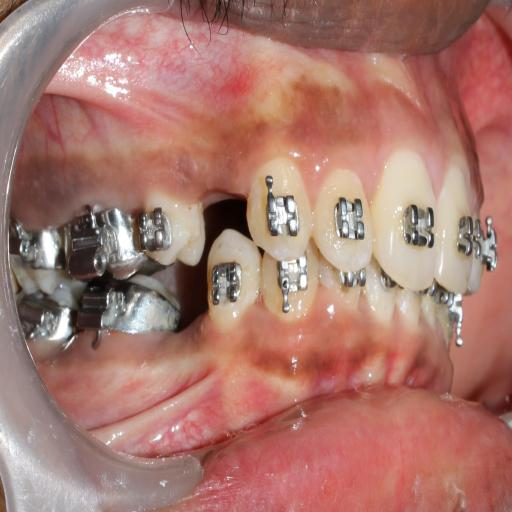correct_brace: (136, 182, 209, 271), (396, 192, 436, 253), (262, 191, 302, 246), (328, 194, 366, 248)
incorrect_brace: (316, 164, 372, 270), (136, 206, 172, 250)
